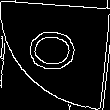O_E: (25, 31, 85, 79)
